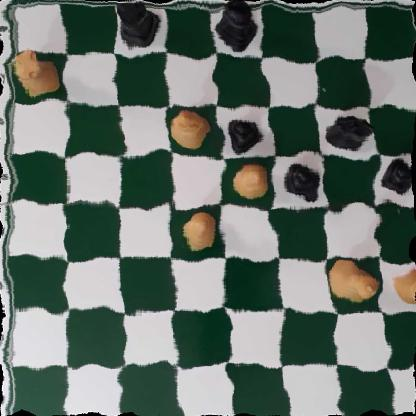black-king: (216, 0, 261, 54)
black-knight: (330, 112, 377, 150)
black-pawn: (220, 114, 264, 154), (284, 159, 324, 201), (378, 157, 416, 195)
black-rook: (111, 2, 158, 47)
white-bishop: (172, 102, 212, 147)
white-king: (327, 259, 377, 305)
white-pawn: (233, 159, 273, 200), (182, 211, 220, 249), (389, 265, 416, 306)
white-rook: (15, 53, 64, 97)
